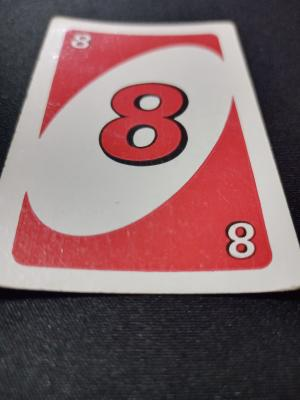num_8: (90, 74, 200, 170), (218, 217, 264, 269), (64, 24, 96, 51)
